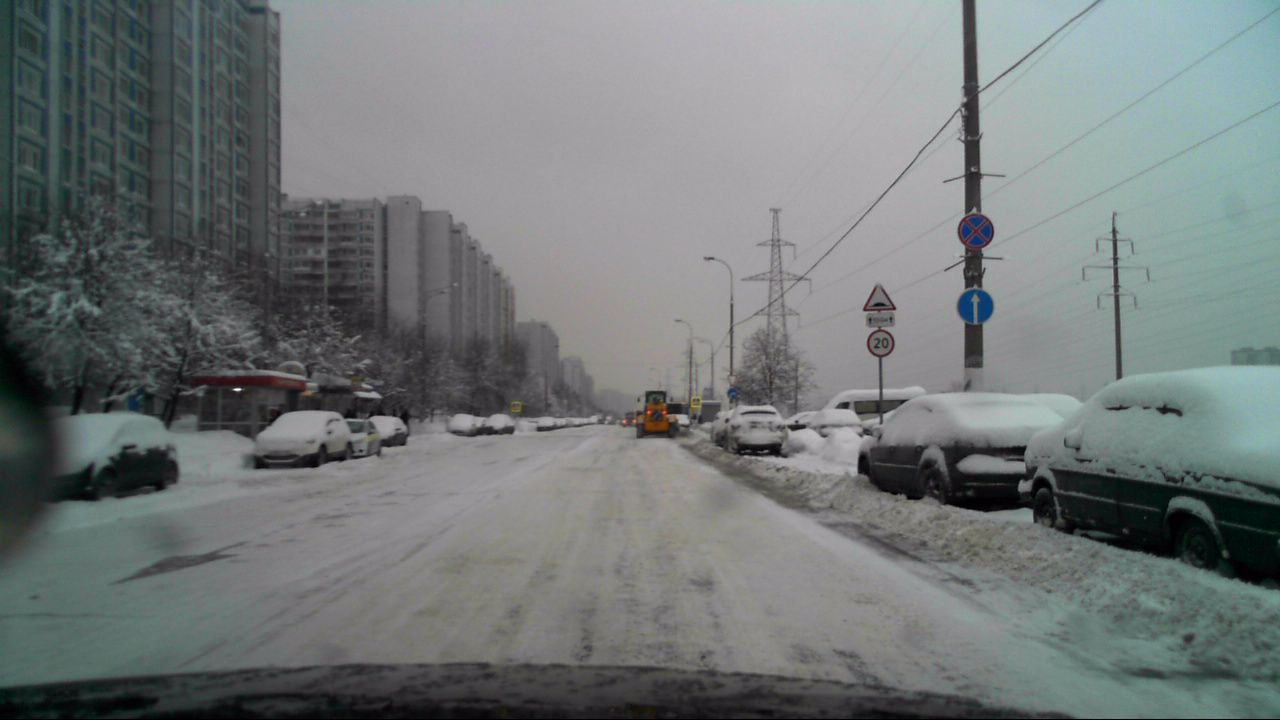No Parking: (956, 210, 996, 249)
